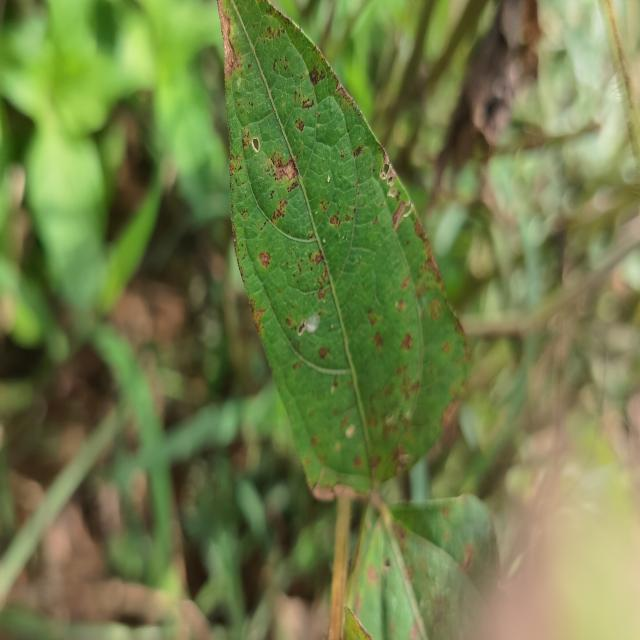Black gram_leaf spot: (216, 0, 471, 501)
